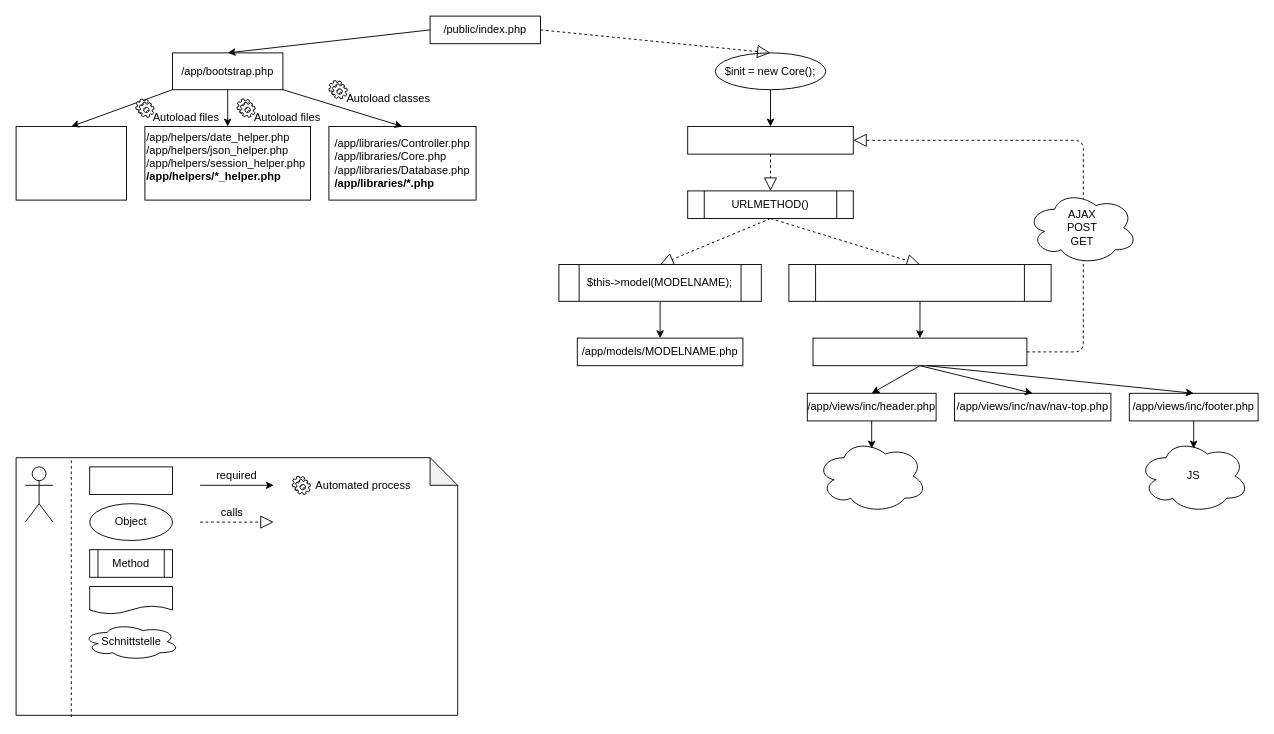
Some shapes in this 1274 by 734 pixel diagram are drawn without their labels. The shapes that lost their labels are listed below. From the top down, each one's centre as x and y in pixels, then its label:
At (770,140): "/app/controllers/URLNAME.php".
At (70,163): "/app/config/config.php /app/config/*.php".
At (919,282): "$this->view(URLNAME/URLMETHOD);".
At (919,351): "/app/views/URLNAME/URLMETHOD.php".
At (38,494): "Read".
At (130,480): "File name".
At (871,475): "CSS".
At (130,600): "Code".
